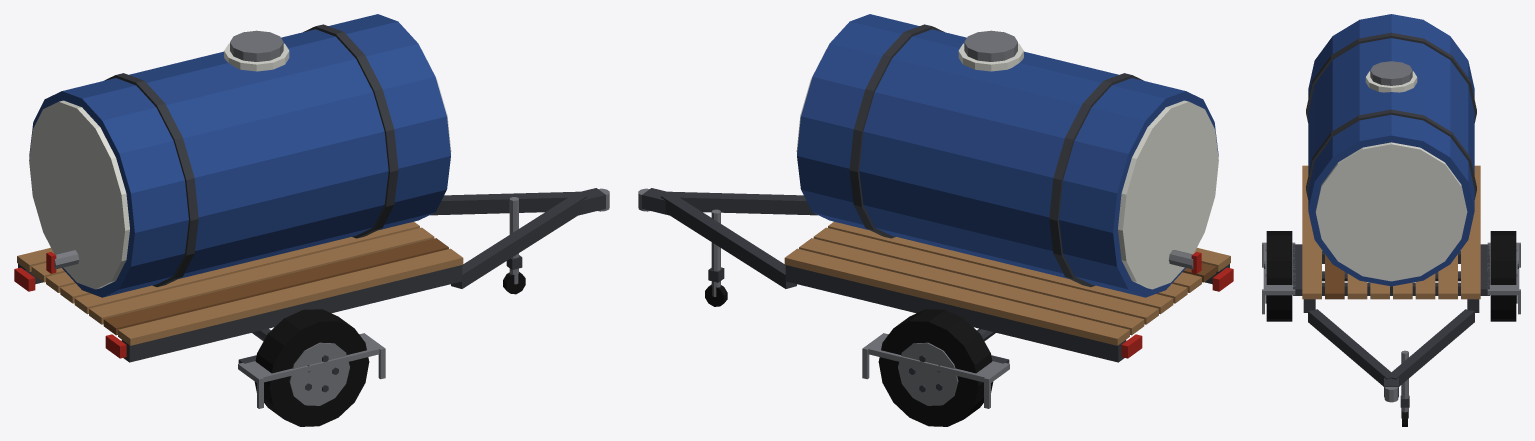
Rendered from trailer_water_idle.glb.
3 views of the same model, side by side, from view 1: azimuth 30°, elevation 25°; view 2: azimuth 150°, elevation 25°; view 3: azimuth 270°, elevation 25° (orthographic). The views are drawn at different scales.
Parts seen in each view (by area): view 1: body.001; view 2: body.001; view 3: body.001.
Boxes of the visible parts, bbox=[...] form: body.001: bbox=[14, 14, 609, 426]; body.001: bbox=[638, 14, 1233, 426]; body.001: bbox=[1262, 14, 1520, 426].
Size of the model in its own units: 3.36 by 1.85 by 1.71.
